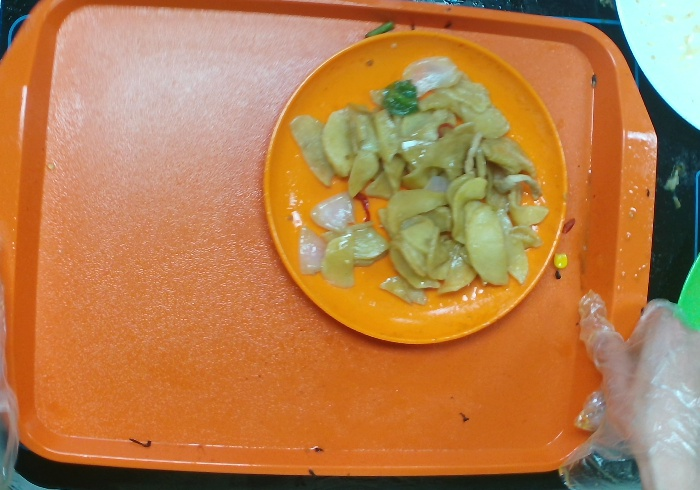HZYJPL-Ju_Huang_Yuan_Pan: (259, 28, 568, 347)
